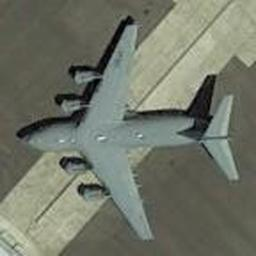Airplane: (14, 12, 239, 250)
